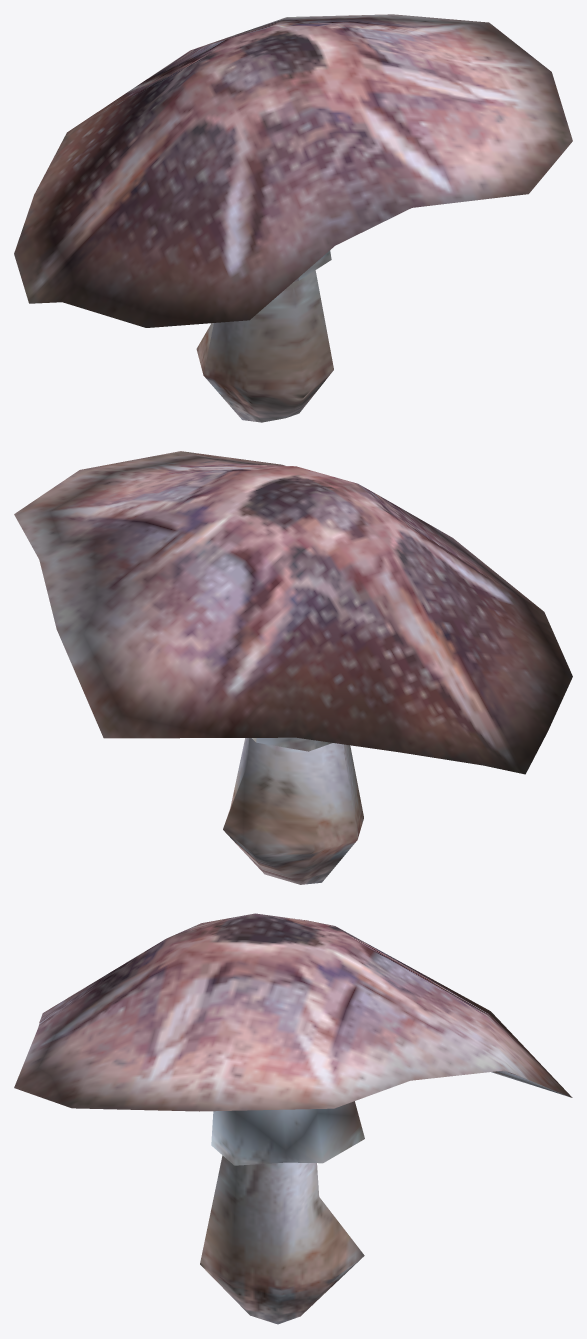
Rendered from SM_TOADSTOOL_10.FBX.
3 renders of one model, top to bottom at view 1: azimuth 30°, elevation 25°; view 2: azimuth 150°, elevation 25°; view 3: azimuth 270°, elevation 25°, orthographic. The views are drawn at different scales.
Parts seen in each view (by area): view 1: SM_TOADSTOOL_10; view 2: SM_TOADSTOOL_10; view 3: SM_TOADSTOOL_10.
Boxes of the visible parts, bbox=[...] form: SM_TOADSTOOL_10: bbox=[14, 14, 572, 422]; SM_TOADSTOOL_10: bbox=[14, 451, 572, 884]; SM_TOADSTOOL_10: bbox=[14, 913, 572, 1324].
Size of the model in its own units: 14.96 by 14.19 by 10.96.
